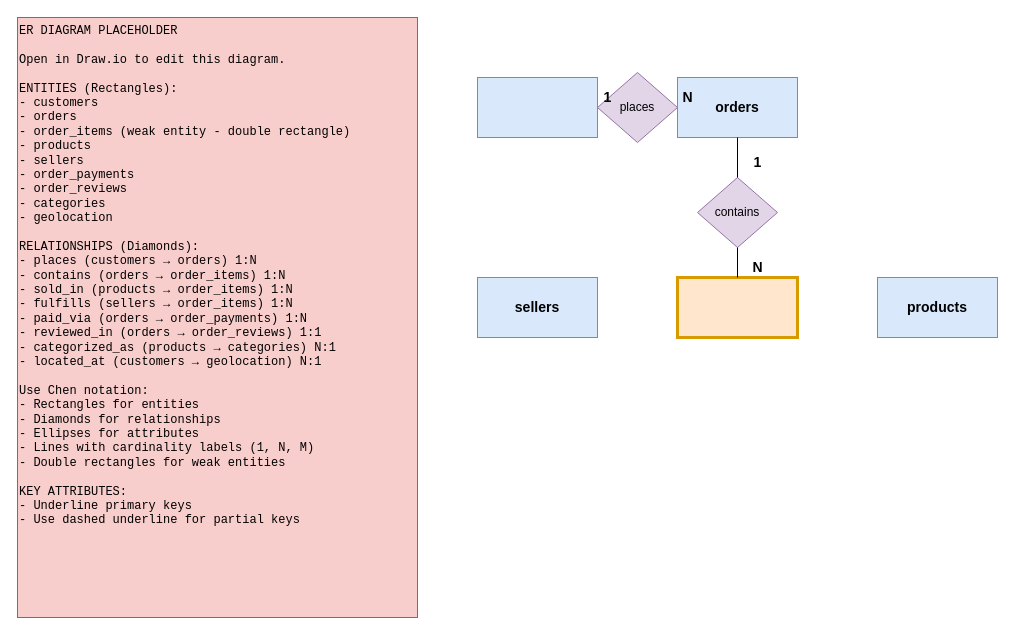
Image size: 1015x635. Some labels were removed from this diagram. The shapes that lost their labels are listed below. From the top down, each one's centre as x and y in pixels, then its label:
point (537, 107): customers
point (737, 307): order_items (weak entity)
